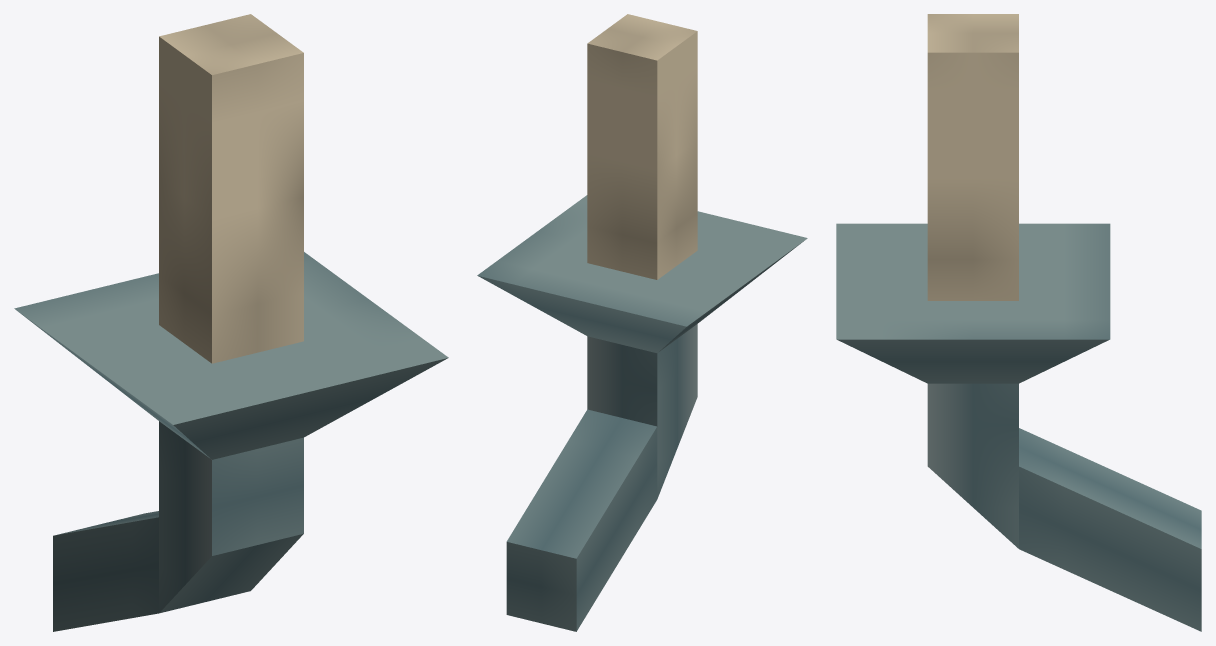
File: WallCandle.fbx
3 views of the same model, side by side, from view 1: azimuth 30°, elevation 25°; view 2: azimuth 150°, elevation 25°; view 3: azimuth 270°, elevation 25° (orthographic). The views are drawn at different scales.
Visible parts, largest first — view 1: Cube.017; view 2: Cube.017; view 3: Cube.017.
Boxes of the visible parts, x1,y1,x2,y2 form: Cube.017: (14,14,448,631); Cube.017: (477,14,807,631); Cube.017: (836,14,1201,631).
Bounding box in the file's own units: 0.1875 × 0.25 × 0.4375.
